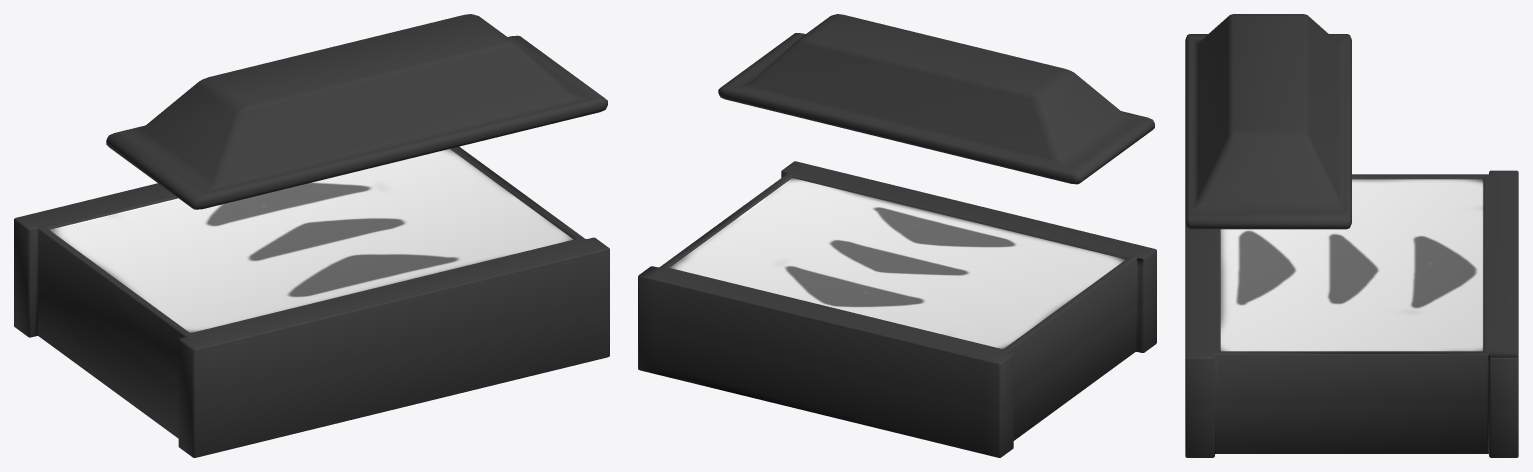
The model's file is Transporter.fbx.
3 views of the same model, side by side, from view 1: azimuth 30°, elevation 25°; view 2: azimuth 150°, elevation 25°; view 3: azimuth 270°, elevation 25° (orthographic). The views are drawn at different scales.
Parts seen in each view (by area): view 1: Transporter; view 2: Transporter; view 3: Transporter.
Boxes of the visible parts, left/top/right/bottom form: Transporter: left=14, top=14, right=609, bottom=457; Transporter: left=638, top=14, right=1156, bottom=457; Transporter: left=1185, top=14, right=1518, bottom=457.
Size of the model in its own units: 400 by 289 by 300.
1 material, 1 textured.
